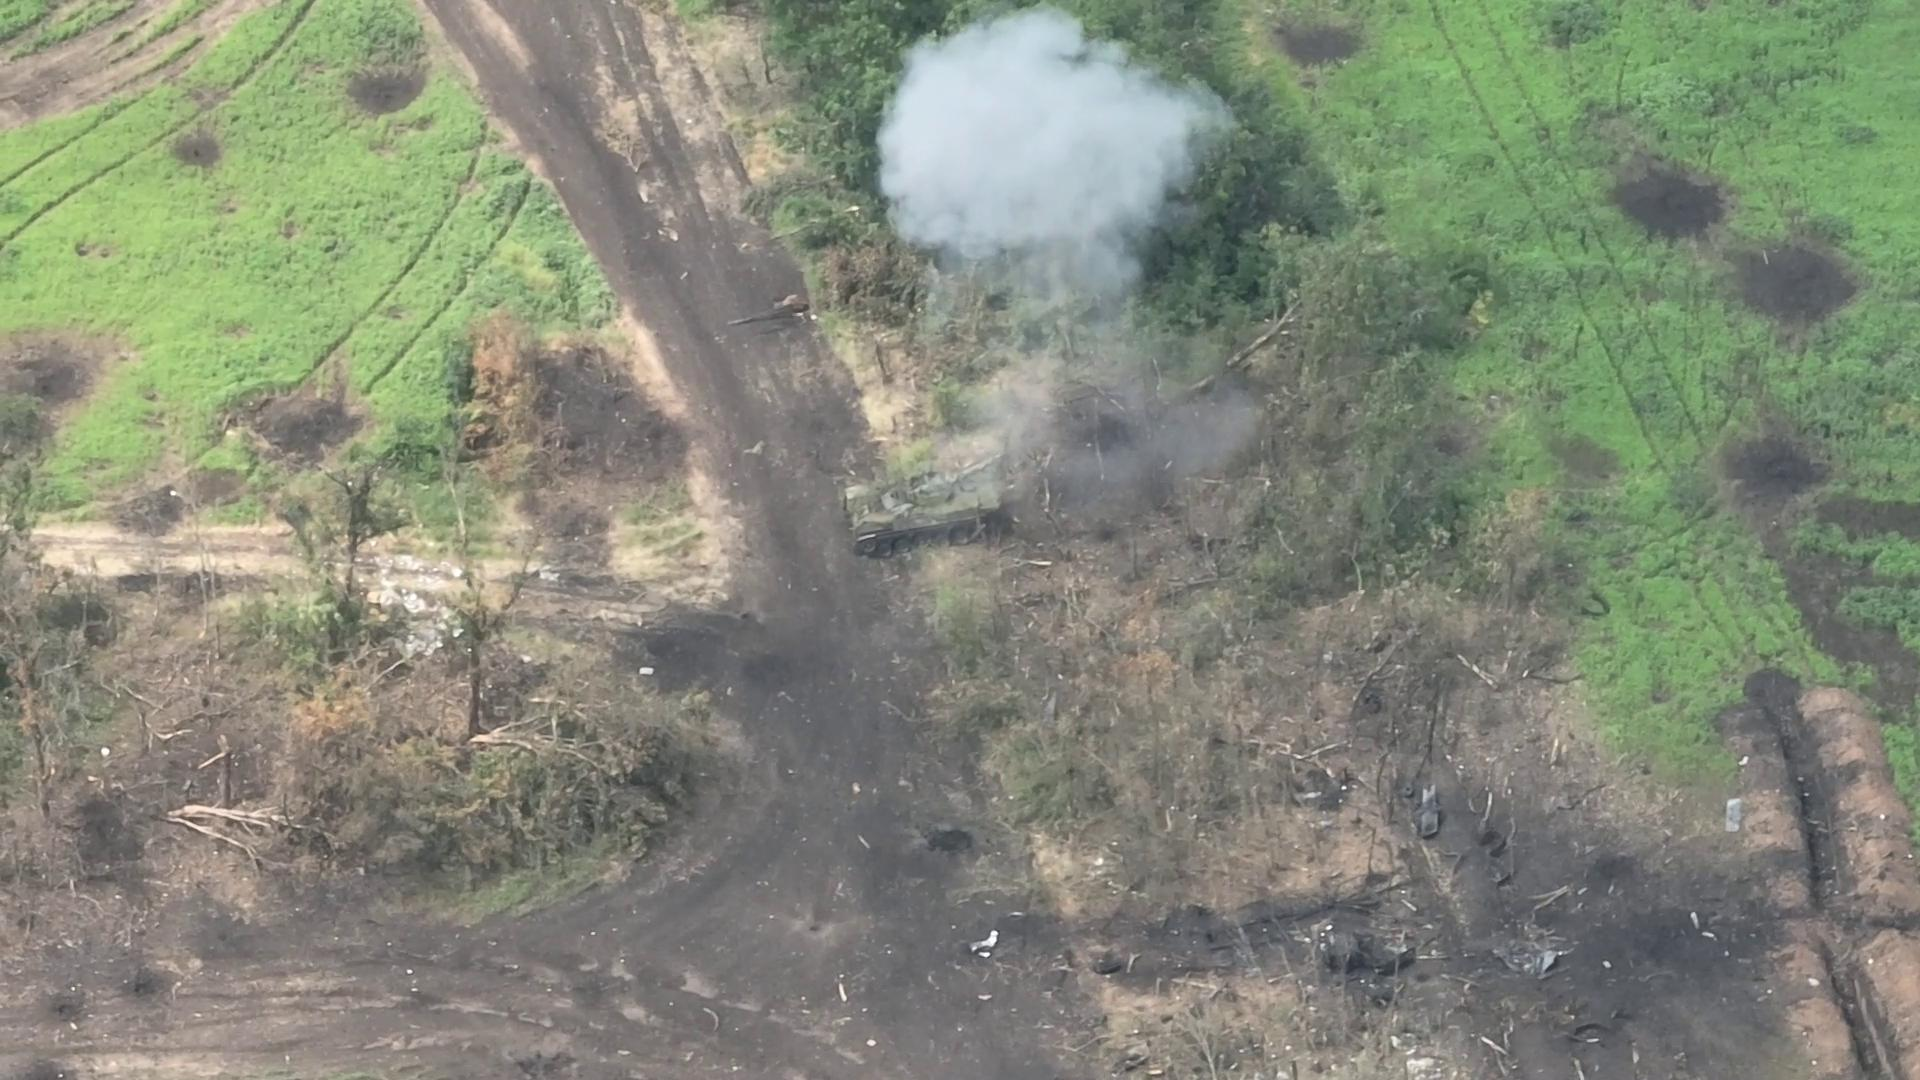tank: (836, 448, 1006, 563)
